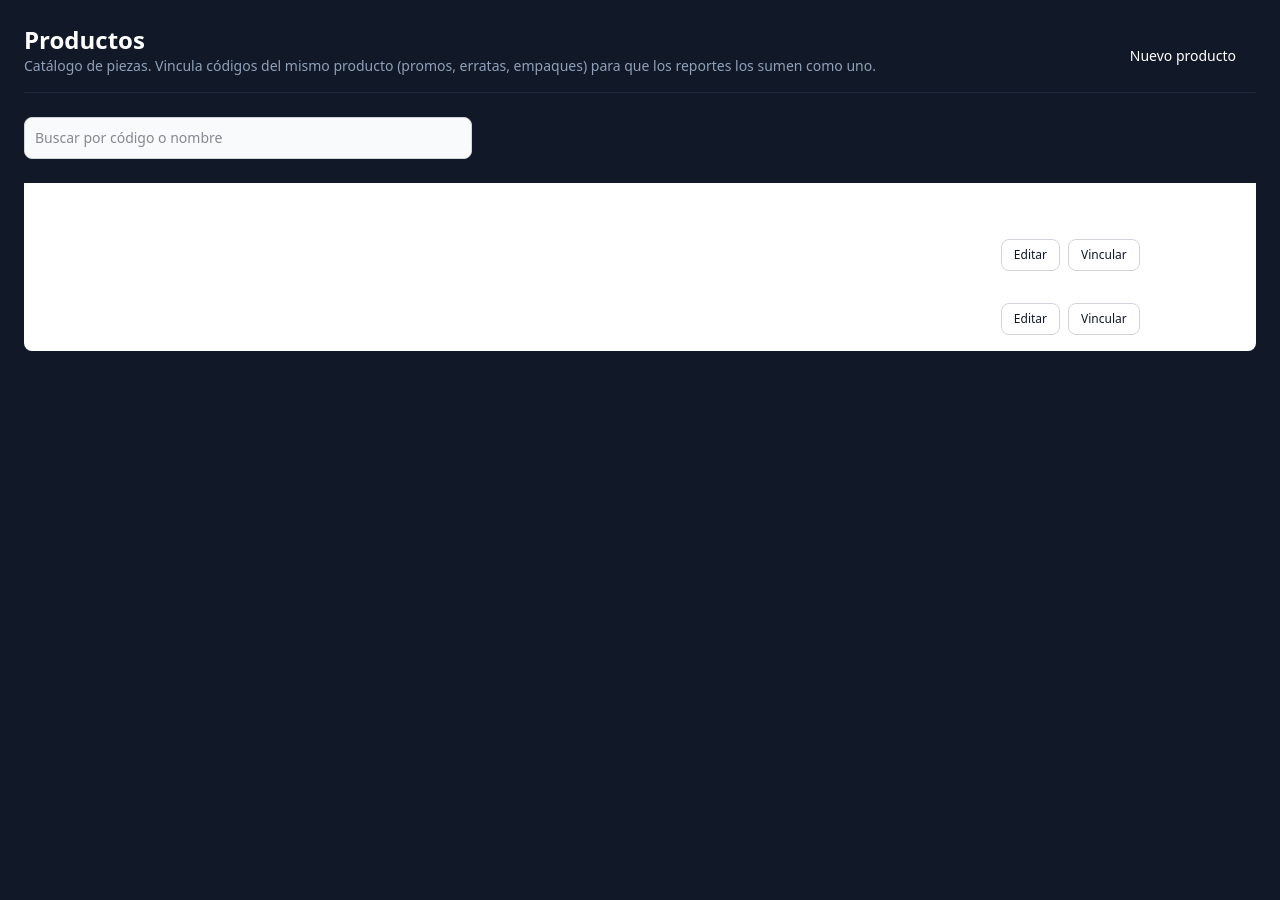
ProductsPage › shows the server message when the link fails
This screenshot has width=1280, height=900.
Click the button "Vincular" in the row of "A1": (1104, 255) [1068,239,1140,271]
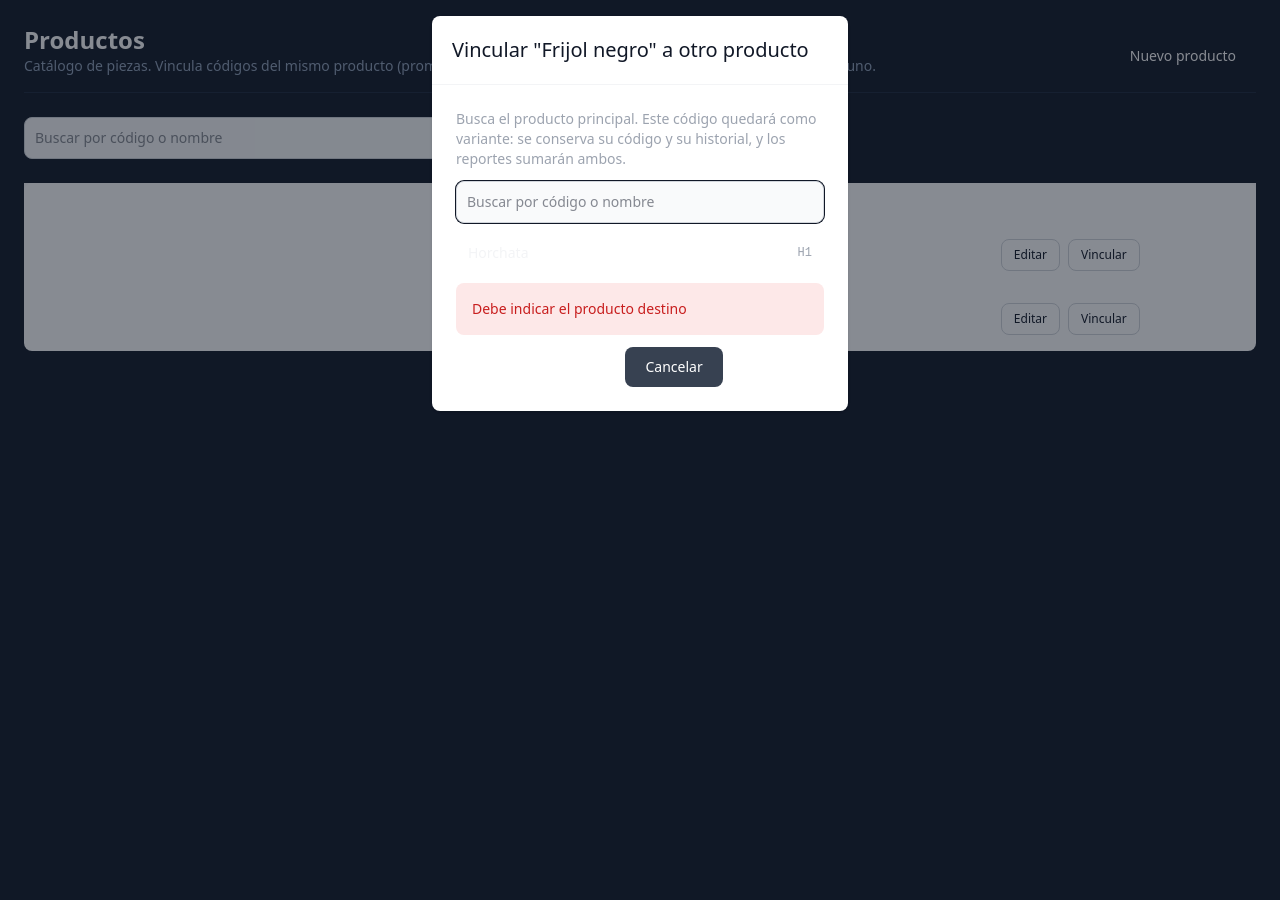
Now the text "Debe indicar el producto destino" is shown, box [472,299,687,319]
